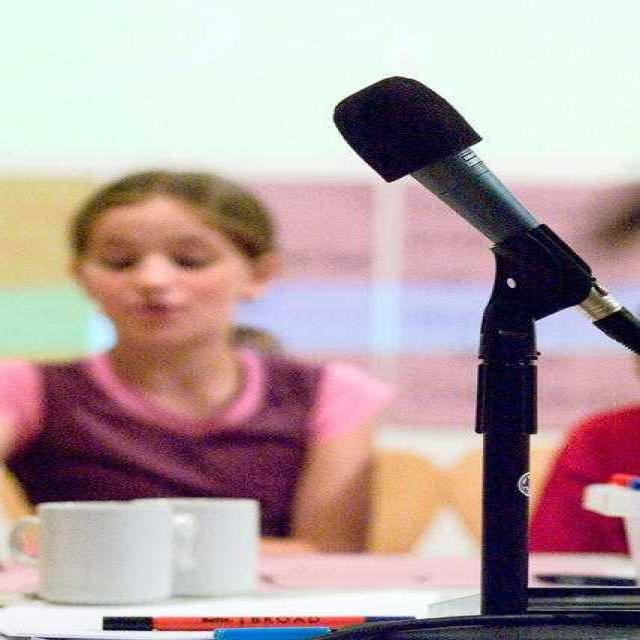microphone: (337, 80, 635, 368)
